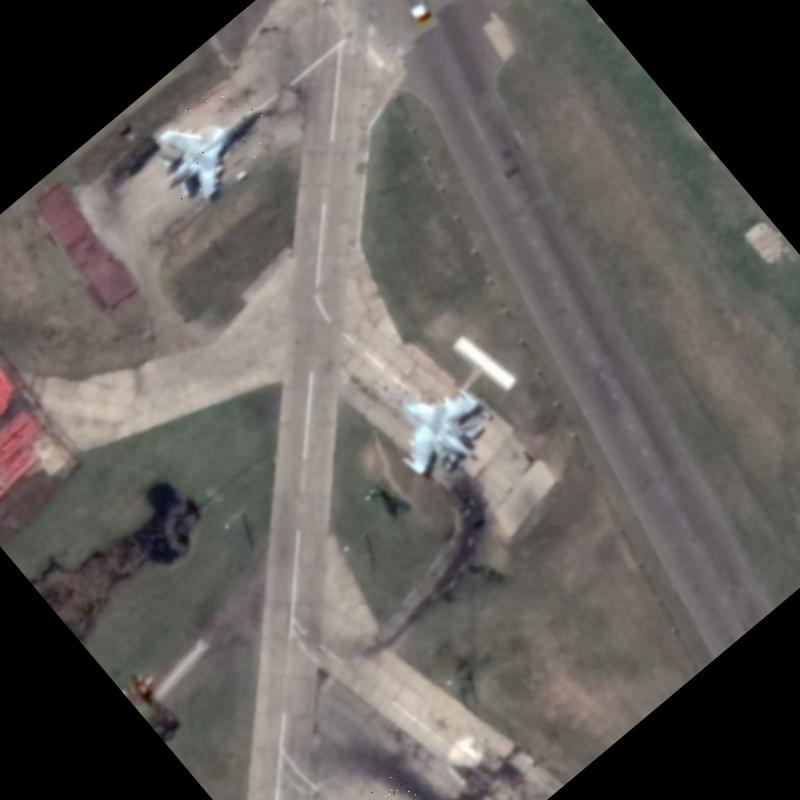A1: (349, 334, 510, 498), (138, 69, 288, 215), (316, 767, 474, 800)
